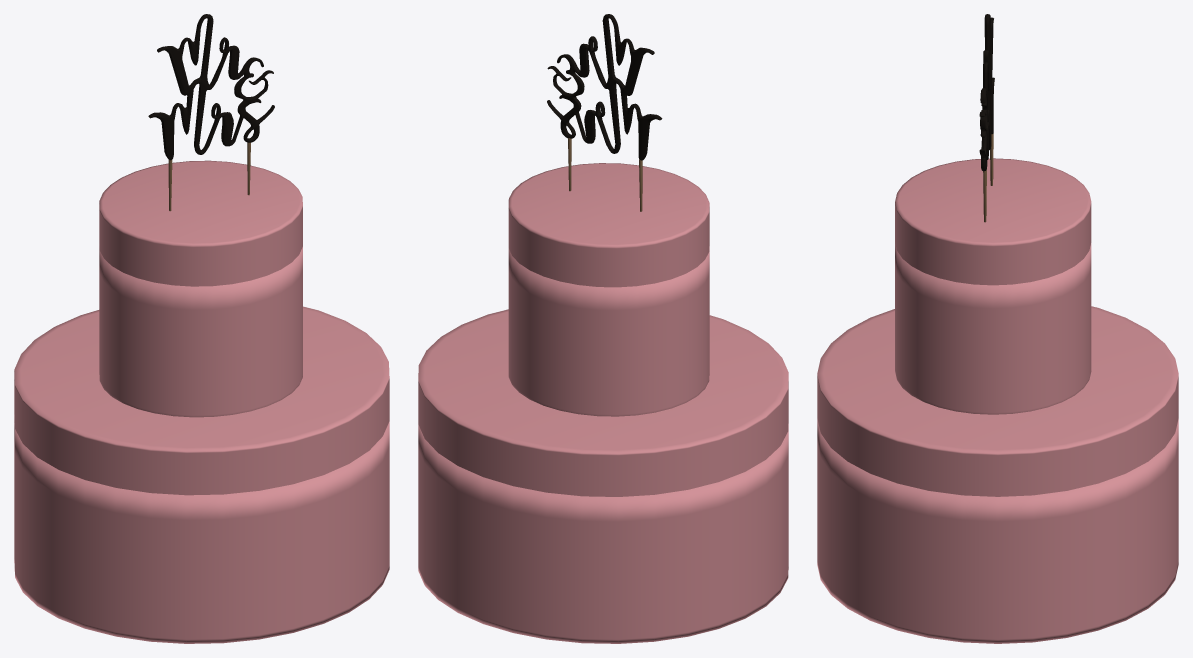
Rendered from 2-tier-blush-none-mrms.glb.
3 renders of one model, left to right at view 1: azimuth 30°, elevation 25°; view 2: azimuth 150°, elevation 25°; view 3: azimuth 270°, elevation 25°, orthographic.
Parts seen in each view (by area): view 1: Cylinder.023, Cylinder.013, mrms; view 2: Cylinder.023, Cylinder.013, mrms; view 3: Cylinder.023, Cylinder.013, mrms.
Part boxes in pixels (x1,y1,x2,y2): Cylinder.023: (14,306,389,643); Cylinder.013: (99,160,302,417); mrms: (148,14,274,211); Cylinder.023: (418,309,788,643); Cylinder.013: (508,163,709,416); mrms: (547,14,662,211); Cylinder.023: (817,306,1178,643); Cylinder.013: (895,158,1091,414); mrms: (979,14,994,222).
Size of the model in its own units: 3.4 by 5.48 by 3.27.
